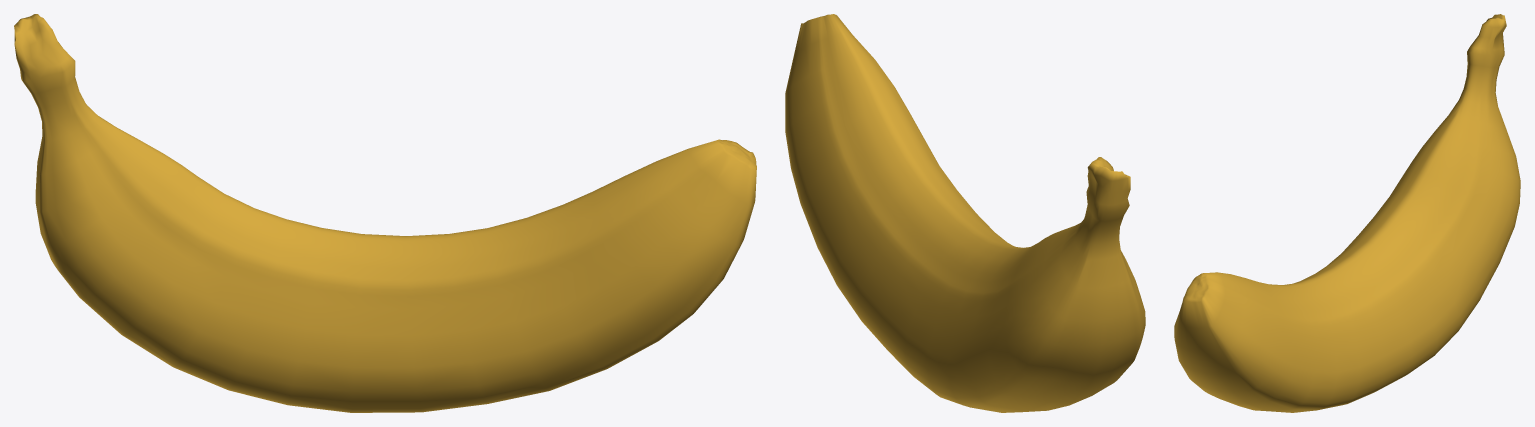
The model's file is banana.dae.
3 views of the same model, side by side, from view 1: azimuth 30°, elevation 25°; view 2: azimuth 150°, elevation 25°; view 3: azimuth 270°, elevation 25° (orthographic). The views are drawn at different scales.
Parts seen in each view (by area): view 1: Mesh__2___2__001; view 2: Mesh__2___2__001; view 3: Mesh__2___2__001.
Boxes of the visible parts, x1=… form: Mesh__2___2__001: x1=14, y1=14, x2=756, y2=412; Mesh__2___2__001: x1=785, y1=14, x2=1145, y2=412; Mesh__2___2__001: x1=1174, y1=14, x2=1520, y2=412.
Size of what is drawn, in the model's own units: 0.6461 by 0.465 by 0.4102.
